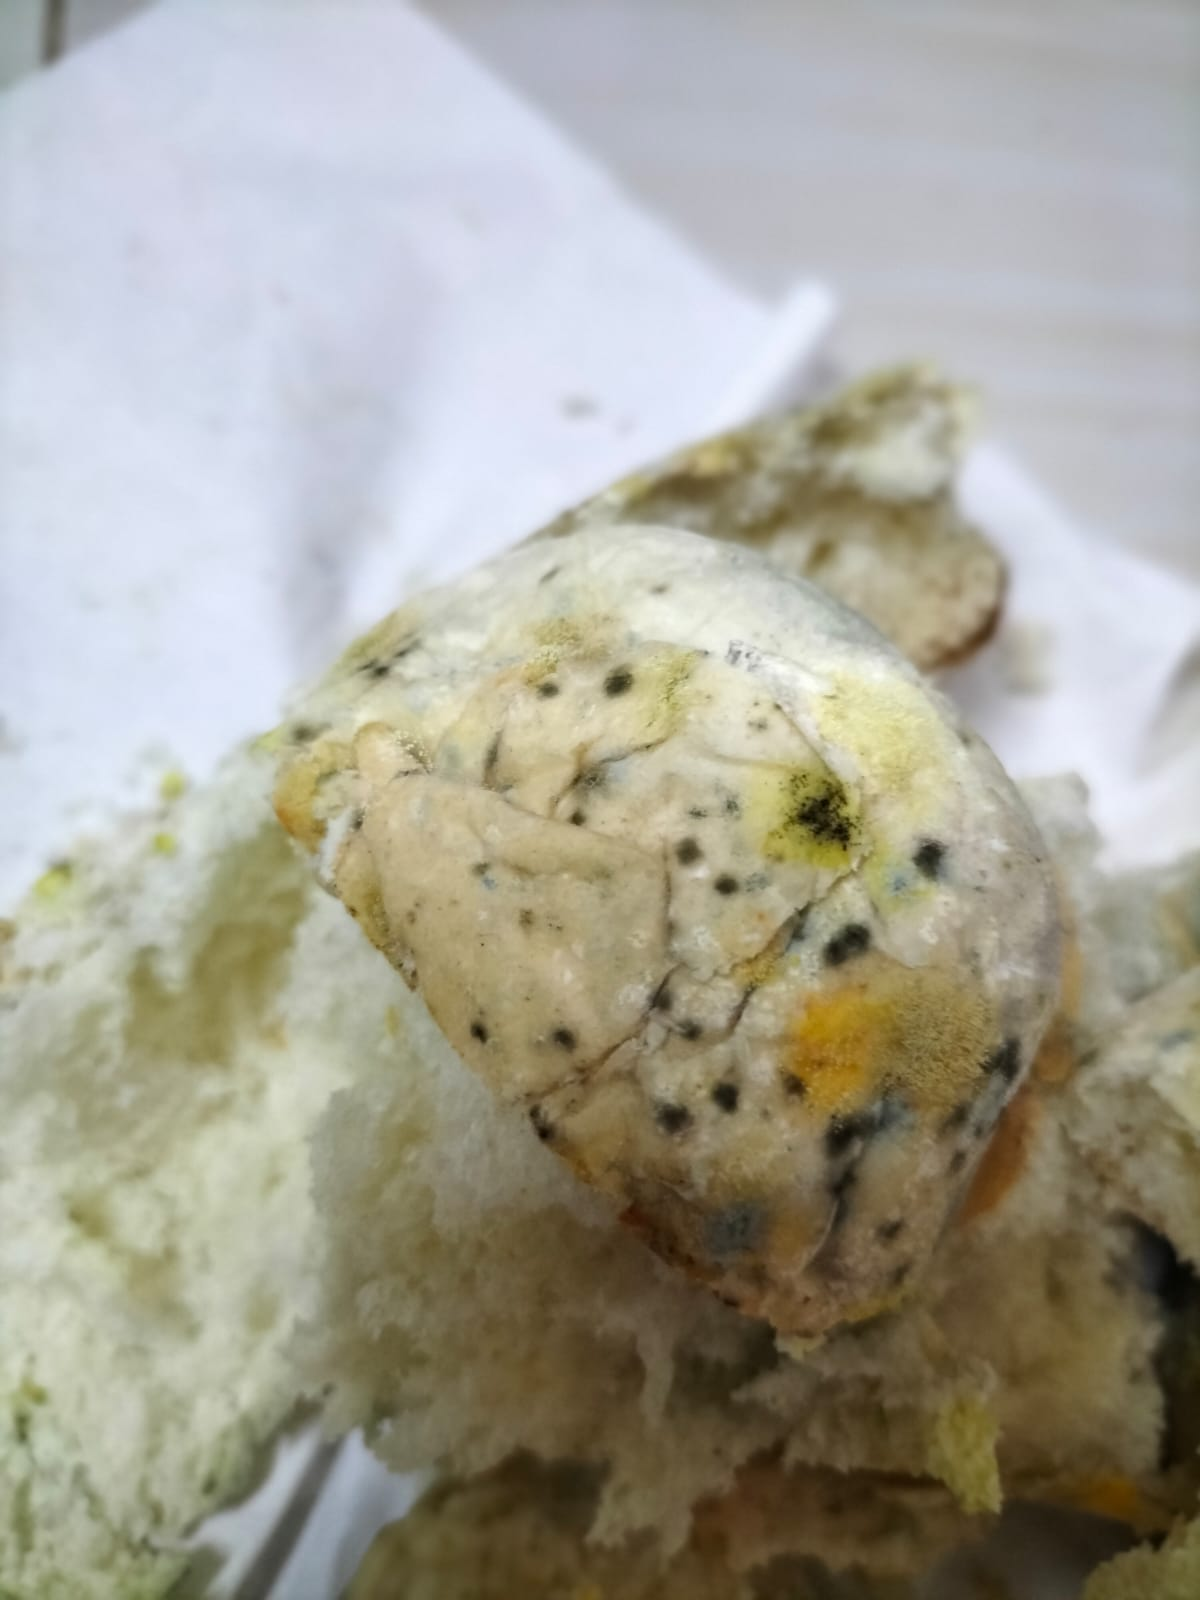mold_bread: (938, 1026, 1047, 1173), (774, 762, 867, 873), (817, 1083, 876, 1209), (789, 896, 880, 978), (684, 1198, 766, 1270), (342, 630, 429, 688), (639, 981, 711, 1047), (897, 828, 957, 894), (563, 757, 616, 831), (648, 1094, 696, 1146), (669, 819, 711, 879), (591, 656, 642, 704), (773, 1060, 813, 1112), (700, 1078, 749, 1119), (526, 666, 568, 709), (545, 1022, 584, 1063), (279, 719, 325, 753), (458, 1014, 500, 1049)
